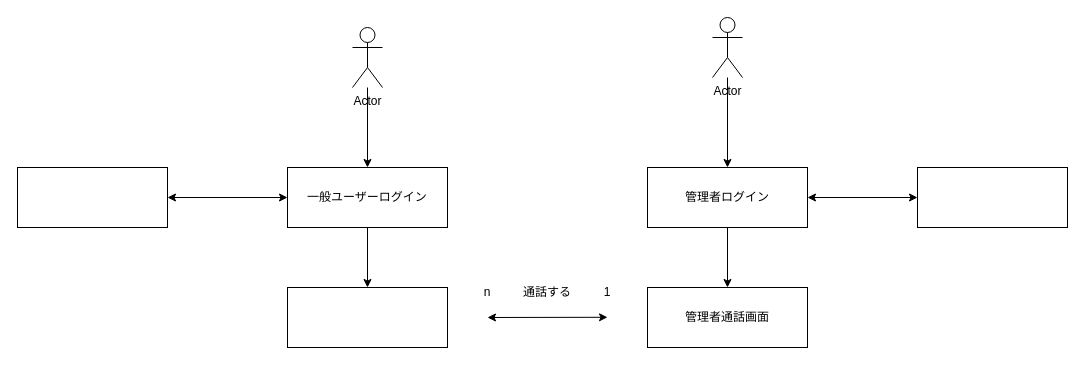
This 1085x365 diagram has some shape labels left out. The shapes that lost their labels are listed below. From the top down, each one's centre as x and y in pixels, then its label:
At point 92,197: "一般ユーザー新規登録".
At point 992,197: "管理者新規登録".
At point 367,317: "一般ユーザー通話画面".
